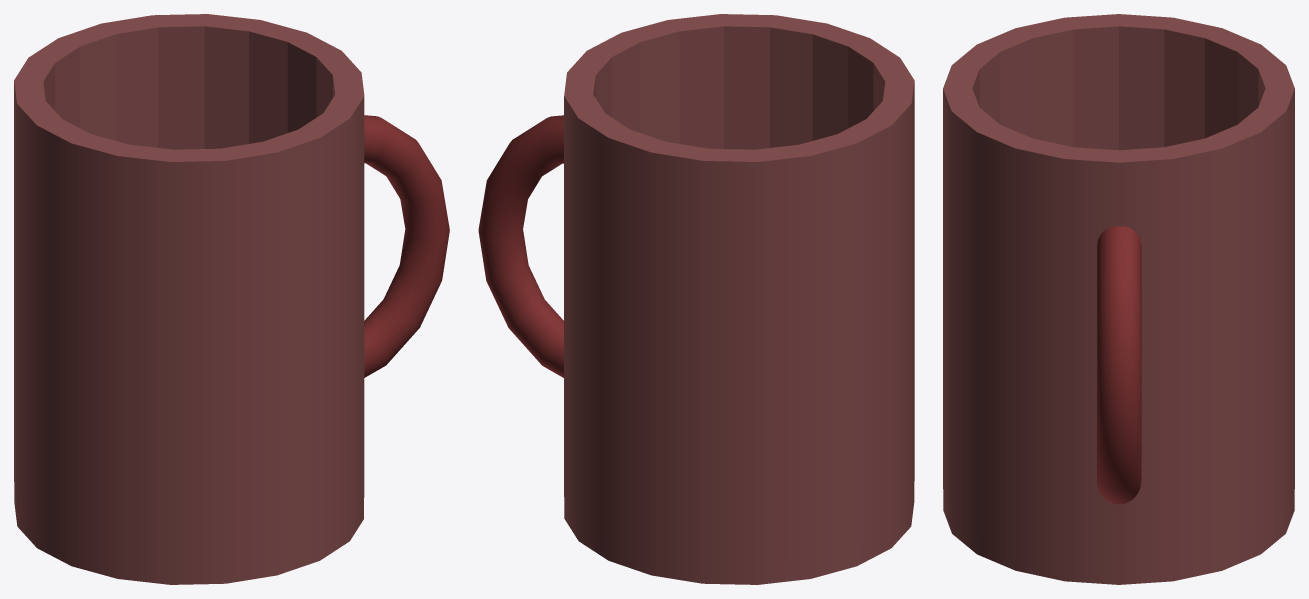
Rendered from flaggowaggo.fbx.
The picture shows the model from 3 angles, left to right: view 1: azimuth 30°, elevation 25°; view 2: azimuth 150°, elevation 25°; view 3: azimuth 270°, elevation 25°; orthographic projection.
Parts seen in each view (by area): view 1: pasted__pCylinder1, pTorus1, pCylinder1; view 2: pasted__pCylinder1, pTorus1, pCylinder1; view 3: pasted__pCylinder1, pTorus1, pCylinder1.
Boxes of the visible parts, bbox=[...] form: pasted__pCylinder1: bbox=[14, 14, 364, 563]; pTorus1: bbox=[364, 115, 449, 377]; pCylinder1: bbox=[14, 485, 363, 584]; pasted__pCylinder1: bbox=[564, 14, 914, 563]; pTorus1: bbox=[478, 115, 563, 377]; pCylinder1: bbox=[564, 484, 914, 584]; pasted__pCylinder1: bbox=[943, 14, 1294, 563]; pTorus1: bbox=[1097, 226, 1141, 504]; pCylinder1: bbox=[943, 490, 1294, 584].
Bounding box in the file's own units: 2.7 × 2.66 × 2.
